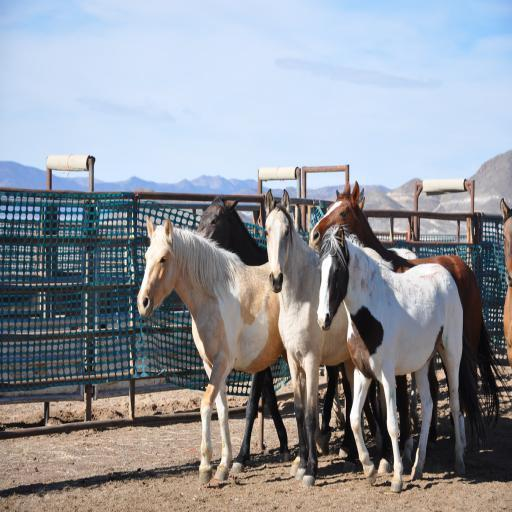horse: (138, 183, 512, 489)
